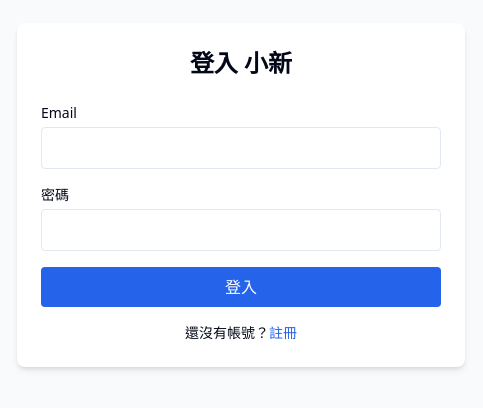
Scenario: LoginPage › shows error on failed login
Type "a@b.com" into the field at (241, 148), box [41,127,441,169]
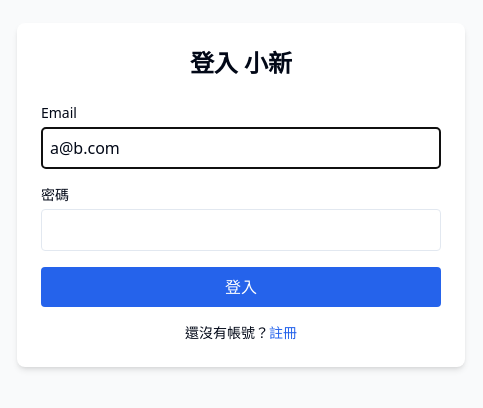
Type "wrong" into the password field at (241, 230), box [41,209,441,251]
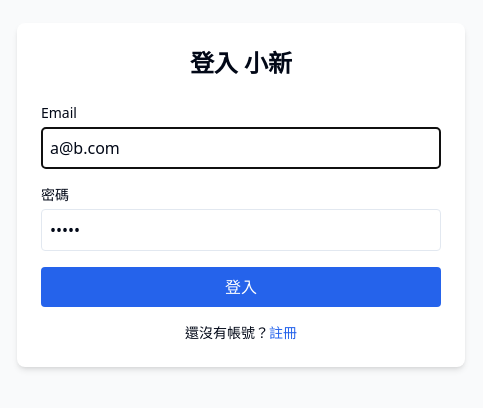
Submit the form with test id "login-form", box [41,103,441,307]
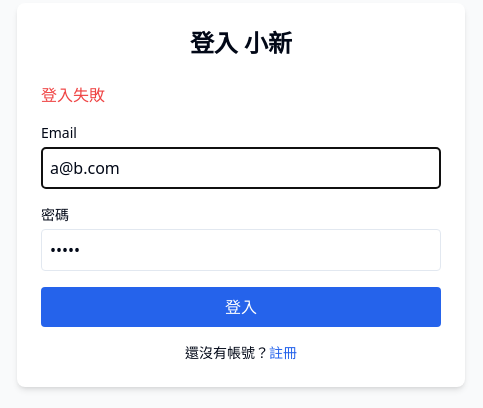
Expected: the text "登入失敗" is shown, [41,84,105,106]
